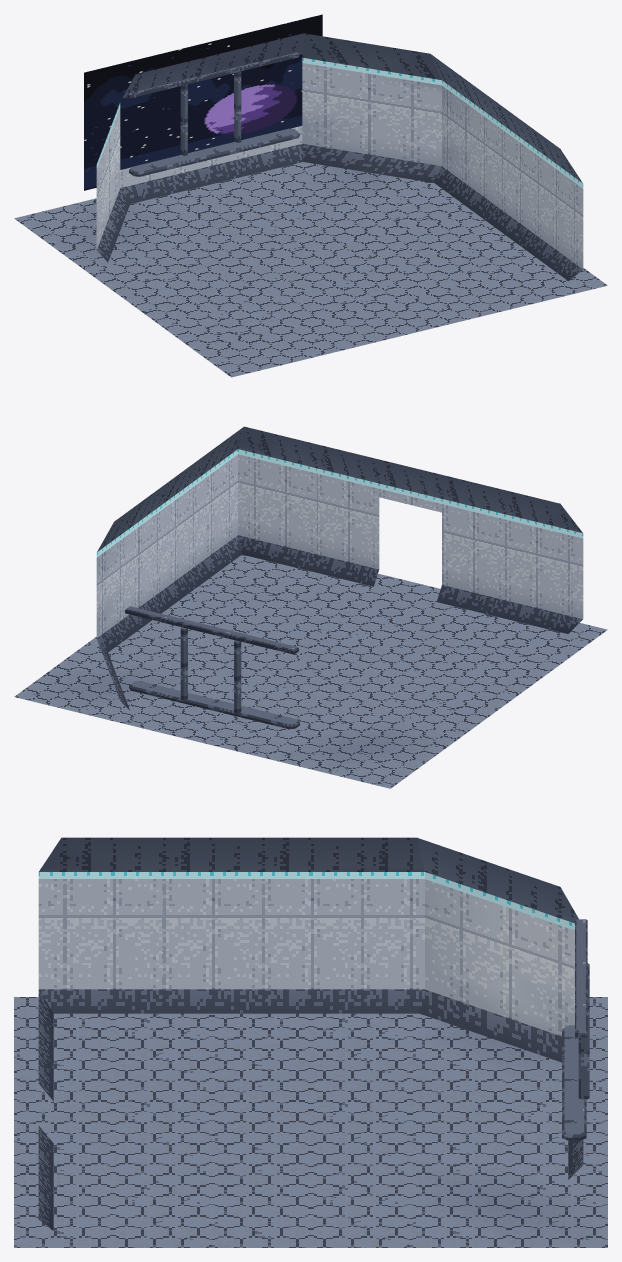
Rendered from stn.bridge.glb.
The picture shows the model from 3 angles, top to bottom: view 1: azimuth 30°, elevation 25°; view 2: azimuth 150°, elevation 25°; view 3: azimuth 270°, elevation 25°; orthographic projection. The views are drawn at different scales.
Visible parts, largest first — view 1: kit_shell_floor, kit_shell_walls, kit_card_view, kit_ledge, kit_mullions, kit_head; view 2: kit_shell_floor, kit_shell_walls, kit_ledge, kit_head, kit_mullions; view 3: kit_shell_floor, kit_shell_walls, kit_ledge, kit_head, kit_mullions.
Boxes of the visible parts, left/top/right/bottom form: kit_shell_floor: left=14, top=162, right=607, bottom=377; kit_shell_walls: left=96, top=33, right=583, bottom=280; kit_card_view: left=84, top=14, right=322, bottom=190; kit_ledge: left=129, top=128, right=299, bottom=176; kit_mullions: left=180, top=71, right=241, bottom=155; kit_head: left=125, top=52, right=298, bottom=98; kit_shell_floor: left=14, top=554, right=607, bottom=788; kit_shell_walls: left=96, top=426, right=583, bottom=710; kit_ledge: left=129, top=681, right=299, bottom=729; kit_head: left=125, top=606, right=298, bottom=654; kit_mullions: left=180, top=627, right=241, bottom=713; kit_shell_floor: left=14, top=997, right=607, bottom=1247; kit_shell_walls: left=38, top=837, right=583, bottom=1230; kit_ledge: left=562, top=1025, right=586, bottom=1140; kit_head: left=575, top=919, right=587, bottom=1037; kit_mullions: left=578, top=963, right=589, bottom=1099.
Bounding box in the file's own units: 12 × 4.01 × 12.
Materials: 8 (8 with a texture image).
